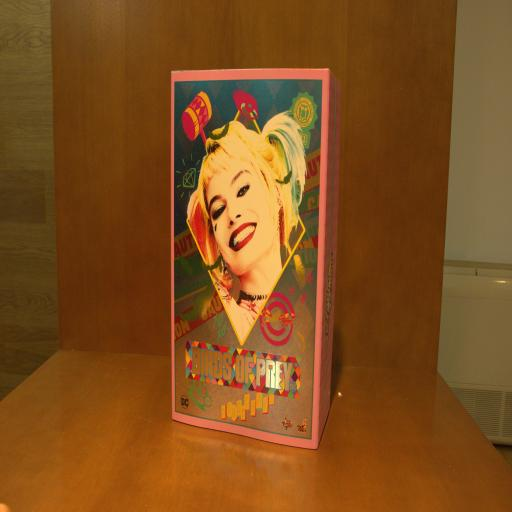Harley: (171, 68, 342, 452)
